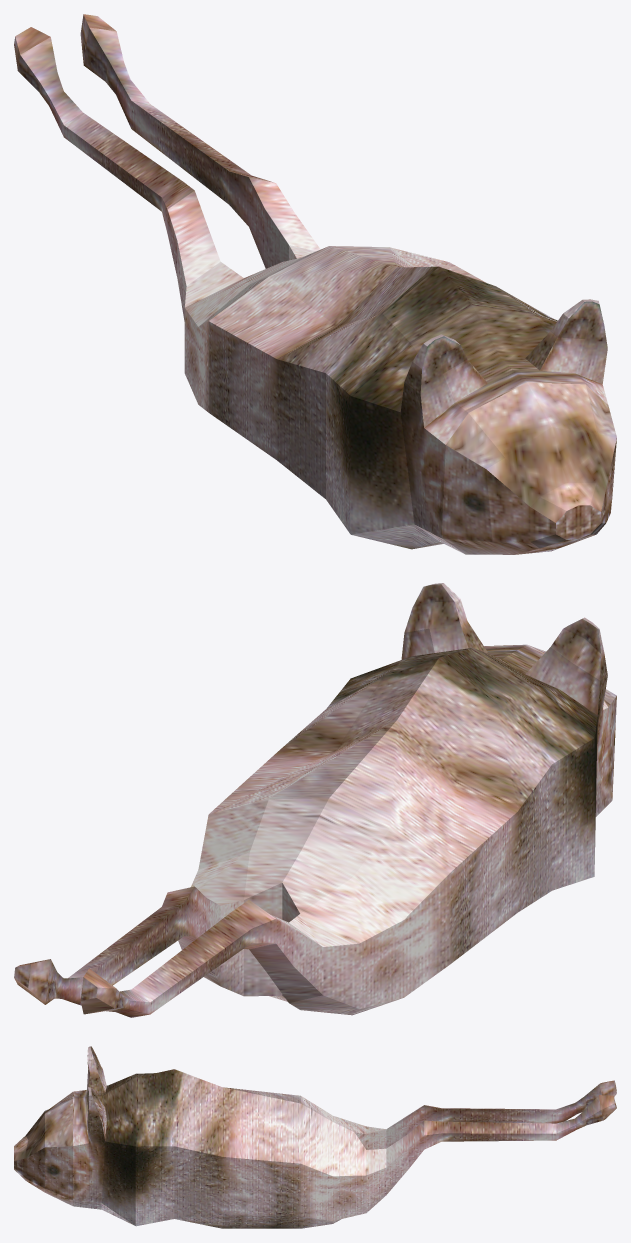
The model's file is bat_core.obj.
3 views of the same model, one above another, from view 1: azimuth 30°, elevation 25°; view 2: azimuth 150°, elevation 25°; view 3: azimuth 270°, elevation 25° (orthographic). The views are drawn at different scales.
Parts seen in each view (by area): view 1: ps1_bat_core.001; view 2: ps1_bat_core.001; view 3: ps1_bat_core.001.
Boxes of the visible parts, box(x1,y1,x2,y2) form: ps1_bat_core.001: box(14, 14, 616, 554); ps1_bat_core.001: box(14, 583, 616, 1017); ps1_bat_core.001: box(14, 1046, 616, 1228).
Bounding box in the file's own units: 0.1348 × 0.1358 × 0.5018.
1 material, 1 textured.
